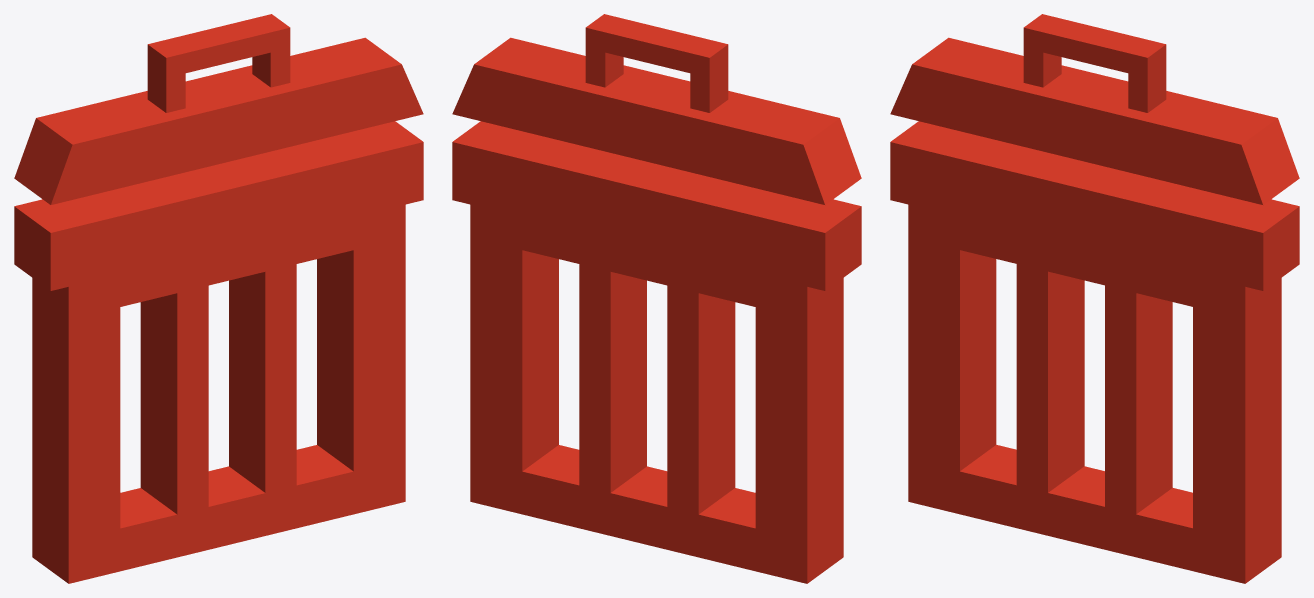
Rendered from Icon_Rubbish_01.fbx.
The picture shows the model from 3 angles, left to right: view 1: azimuth 30°, elevation 25°; view 2: azimuth 150°, elevation 25°; view 3: azimuth 330°, elevation 25°; orthographic projection.
Parts seen in each view (by area): view 1: Icon_Rubbish_01; view 2: Icon_Rubbish_01; view 3: Icon_Rubbish_01.
Boxes of the visible parts, x1,y1,x2,y2 form: Icon_Rubbish_01: (14, 14, 423, 583); Icon_Rubbish_01: (452, 14, 861, 583); Icon_Rubbish_01: (890, 14, 1299, 583).
Bounding box in the file's own units: 55.58 × 70.29 × 9.43.
